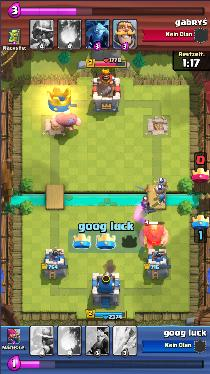ally_giant: (50, 109, 83, 131)
ally_wallbreaker: (153, 185, 166, 203), (157, 178, 168, 195)
enemy_giant: (139, 223, 169, 249)
enemy_mini_pekka: (141, 196, 154, 213)
